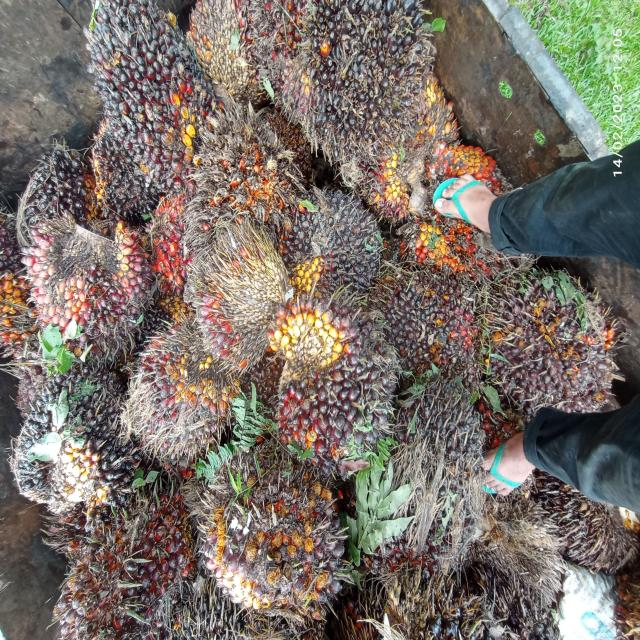fraksi 00: (191, 393, 350, 640), (78, 0, 238, 209), (360, 368, 496, 582), (288, 0, 440, 190), (3, 360, 141, 534), (496, 266, 619, 447), (282, 178, 384, 328), (0, 137, 103, 241), (380, 267, 474, 380)
fraksi 1: (264, 278, 396, 495), (46, 470, 199, 640), (25, 198, 147, 370), (114, 314, 228, 476), (178, 218, 285, 373)
fraksi 4: (195, 112, 292, 236), (143, 195, 201, 286)
